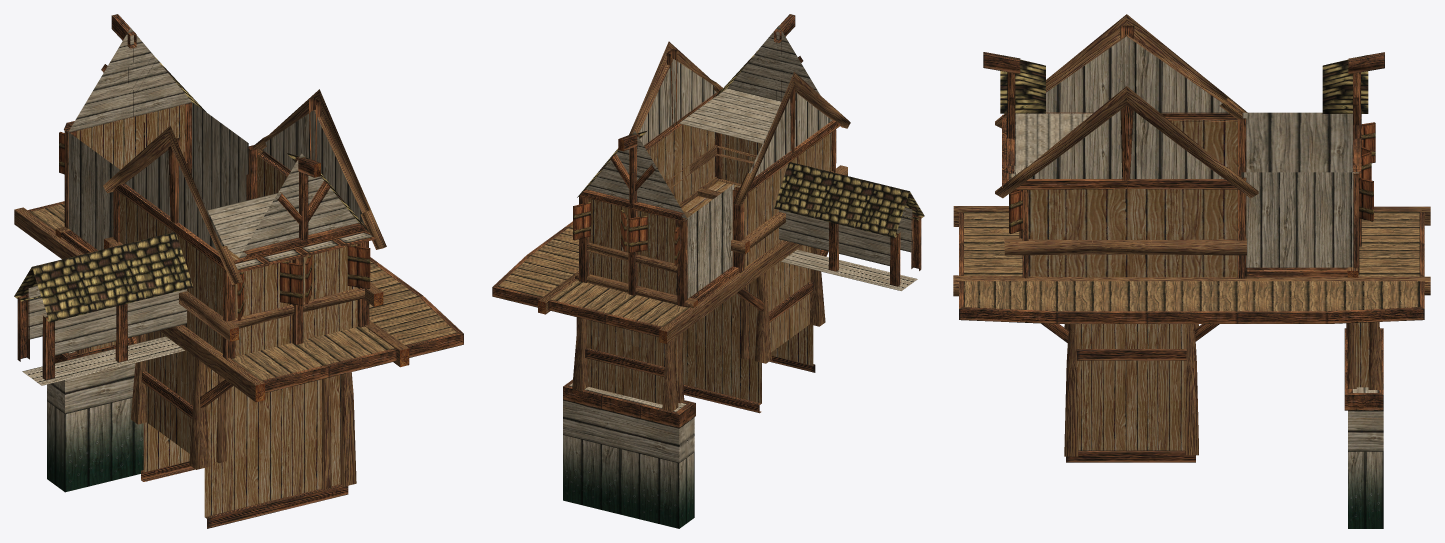
The model's file is LAKETOWN_EXTERIOR_PS_LT_FISHINGCOTTAGE95__GX.fbx.
3 views of the same model, side by side, from view 1: azimuth 30°, elevation 25°; view 2: azimuth 150°, elevation 25°; view 3: azimuth 270°, elevation 25° (orthographic). The views are drawn at different scales.
Visible parts, largest first — view 1: LAKETOWN_EXTERIOR_PS_LT_FISHINGCOTTAGE95__GX; view 2: LAKETOWN_EXTERIOR_PS_LT_FISHINGCOTTAGE95__GX; view 3: LAKETOWN_EXTERIOR_PS_LT_FISHINGCOTTAGE95__GX.
Part boxes in pixels (x1,y1,x2,y2): LAKETOWN_EXTERIOR_PS_LT_FISHINGCOTTAGE95__GX: (14,14,463,528); LAKETOWN_EXTERIOR_PS_LT_FISHINGCOTTAGE95__GX: (492,14,924,528); LAKETOWN_EXTERIOR_PS_LT_FISHINGCOTTAGE95__GX: (953,14,1430,528).
Size of the model in its own units: 115470 by 139959 by 136058.
12 materials, 12 textured.
